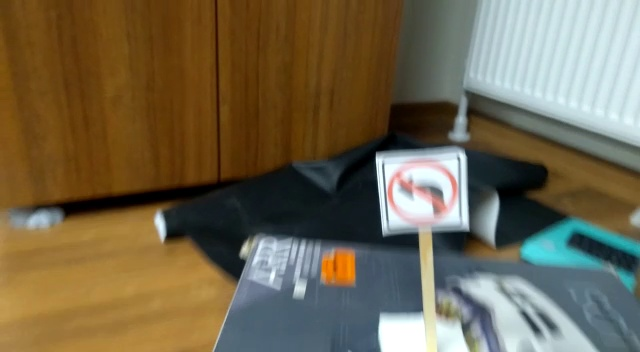sola_donulmez: (385, 153, 461, 235)
